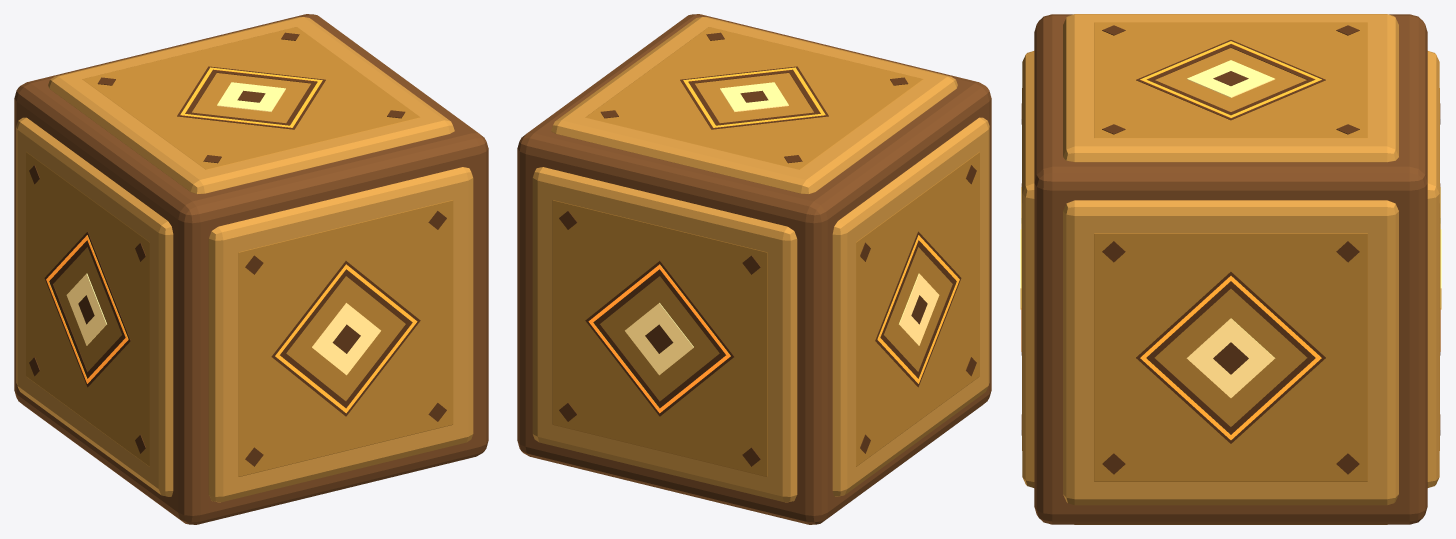
File: w9b-gold-find-cube.glb
3 views of the same model, side by side, from view 1: azimuth 30°, elevation 25°; view 2: azimuth 150°, elevation 25°; view 3: azimuth 270°, elevation 25° (orthographic). The views are drawn at different scales.
Parts seen in each view (by area): view 1: Panel, Panel.003, Gold core, Panel.005; view 2: Panel.002, Panel.003, Gold core, Panel.005; view 3: Panel.001, Panel.005, Gold core, Panel, Panel.002.
Part boxes in pixels (left/top/right/bottom): Panel: left=208, top=167, right=473, bottom=502; Panel.003: left=16, top=117, right=173, bottom=496; Gold core: left=14, top=14, right=488, bottom=524; Panel.005: left=48, top=17, right=454, bottom=194; Panel.002: left=532, top=167, right=797, bottom=502; Panel.003: left=832, top=117, right=989, bottom=496; Gold core: left=517, top=14, right=991, bottom=524; Panel.005: left=551, top=17, right=957, bottom=194; Panel.001: left=1063, top=200, right=1398, bottom=505; Panel.005: left=1063, top=14, right=1398, bottom=162; Gold core: left=1034, top=14, right=1427, bottom=524; Panel: left=1020, top=51, right=1034, bottom=487; Panel.002: left=1427, top=51, right=1441, bottom=487.
Size of the model in its own units: 1 by 1 by 1.
